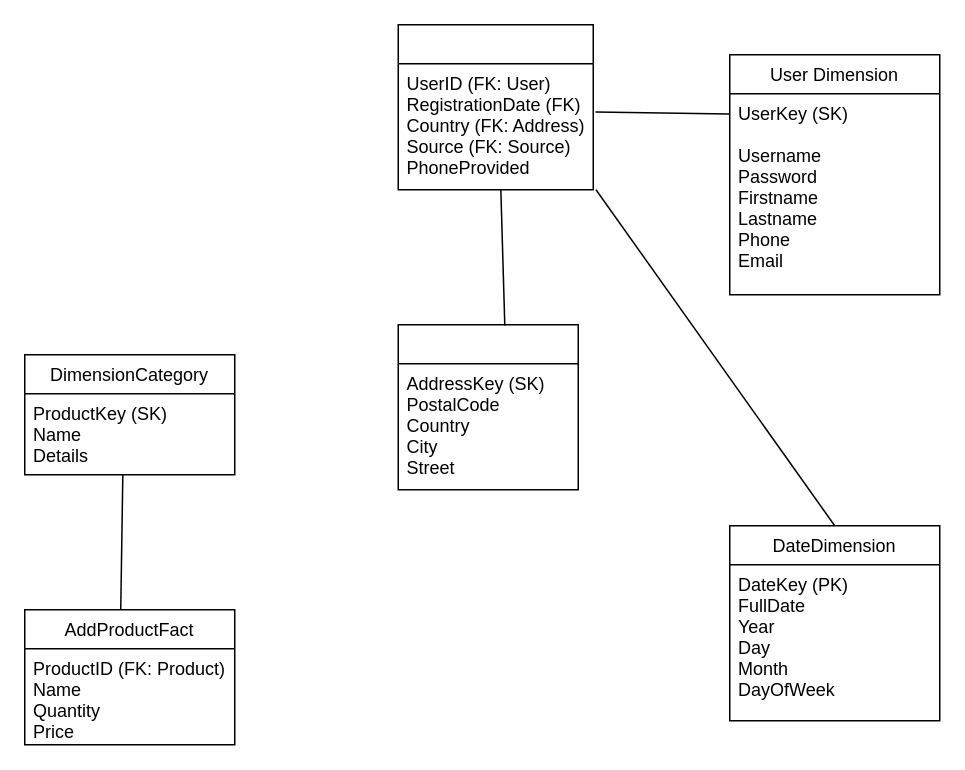
Some shapes in this 965 by 770 pixel diagram are drawn without their labels. The box of each missing label's shape, as (x1, y1, x2, y2) in pixels:
Address Dimension: (397, 323, 578, 490)
UserCreationFact: (397, 23, 593, 190)
